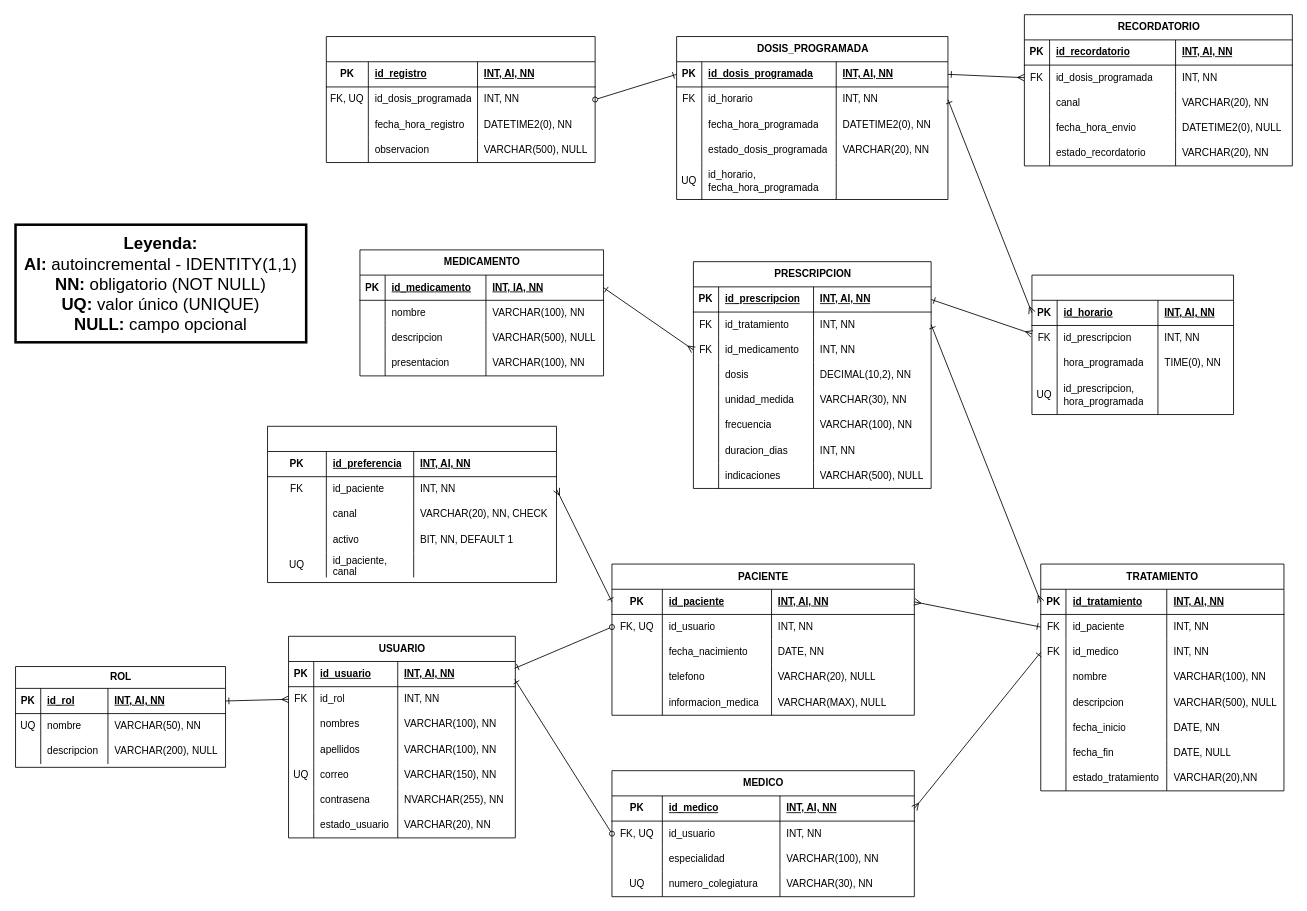
This 1307x911 diagram has some shape labels left out. The shapes that lost their labels are listed below. From the top down, each one's box as (x1, y1, x2, y2) in pixels, then its label:
(326, 36, 595, 163): REGISTRO_TOMA
(1031, 274, 1234, 415): HORARIO_DOSIS
(267, 425, 556, 583): PREFERENCIA_NOTIFICACION
